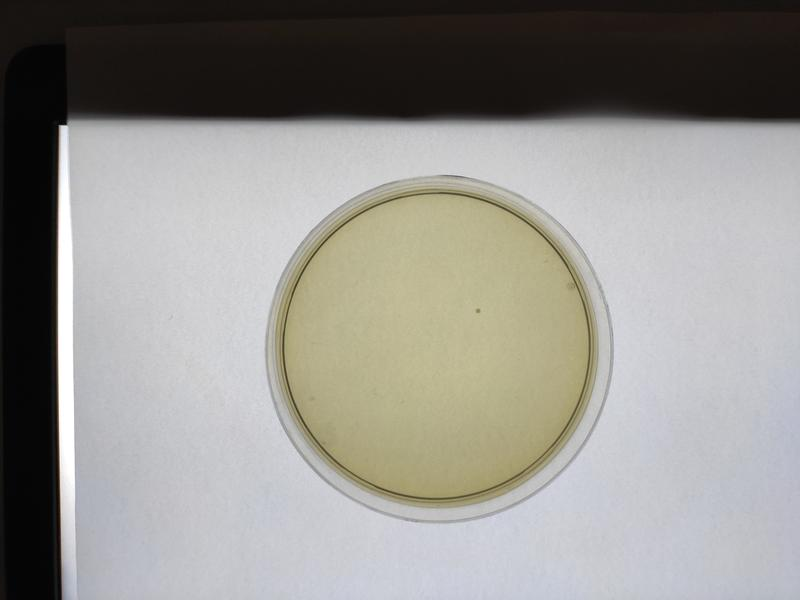colony: (471, 305, 485, 317)
